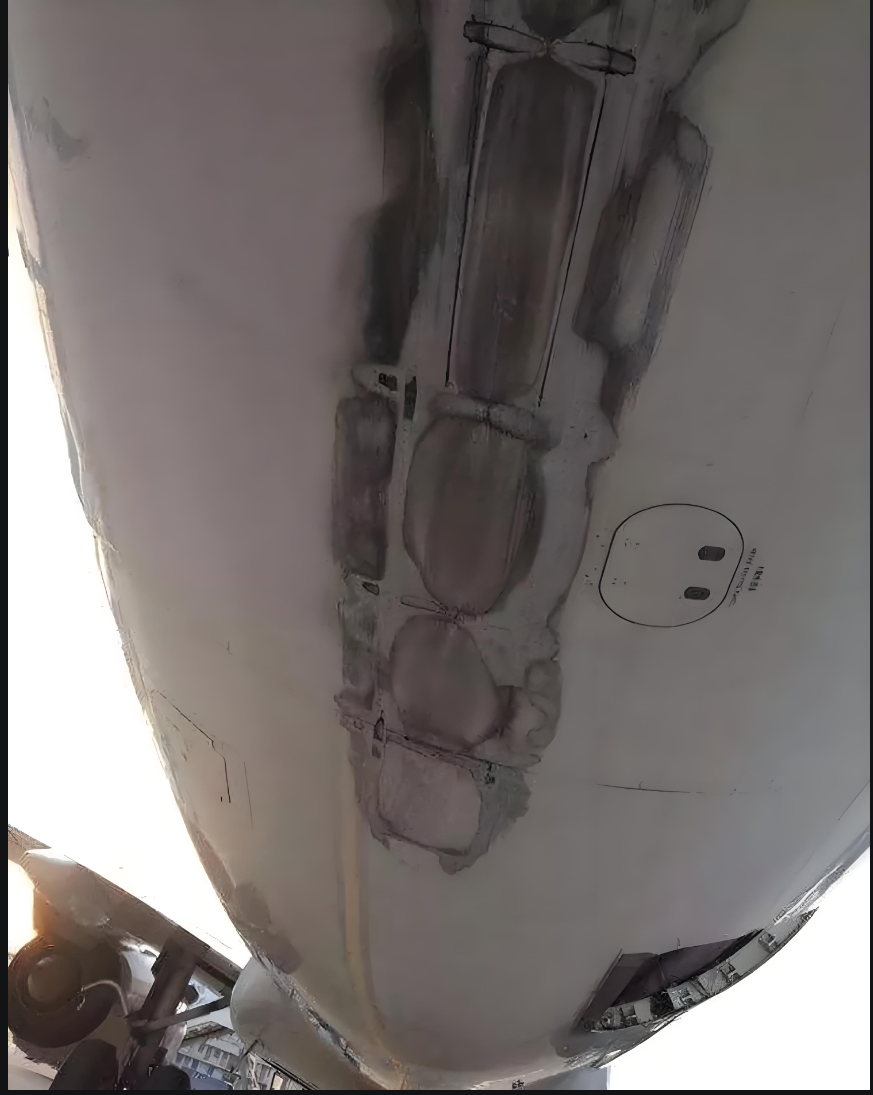Corrosion: (314, 2, 754, 502), (320, 503, 598, 884)
Scratches: (591, 768, 712, 814)
